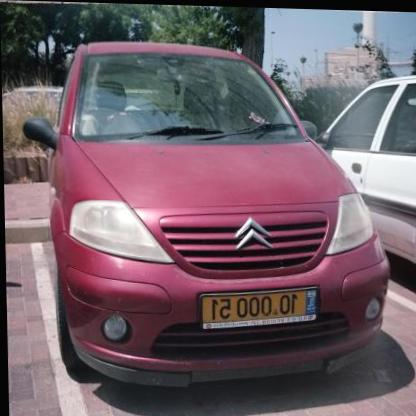License_Plate: (199, 284, 320, 333)
